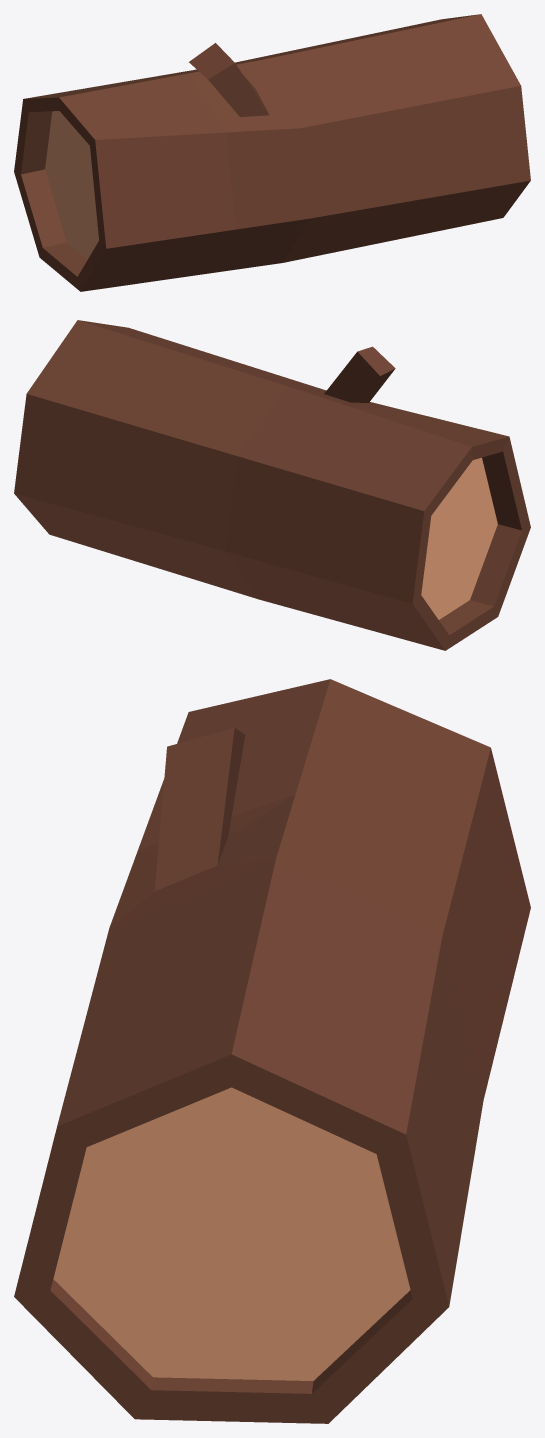
Rendered from wooden_stick2.fbx.
3 renders of one model, top to bottom at view 1: azimuth 30°, elevation 25°; view 2: azimuth 150°, elevation 25°; view 3: azimuth 270°, elevation 25°, orthographic. The views are drawn at different scales.
Parts seen in each view (by area): view 1: wooden_stick2; view 2: wooden_stick2; view 3: wooden_stick2.
Part boxes in pixels (x1,y1,x2,y2): wooden_stick2: [14, 14, 530, 291]; wooden_stick2: [14, 320, 530, 650]; wooden_stick2: [14, 679, 530, 1423].
Size of the model in its own units: 1.5 by 0.7885 by 0.8319.
